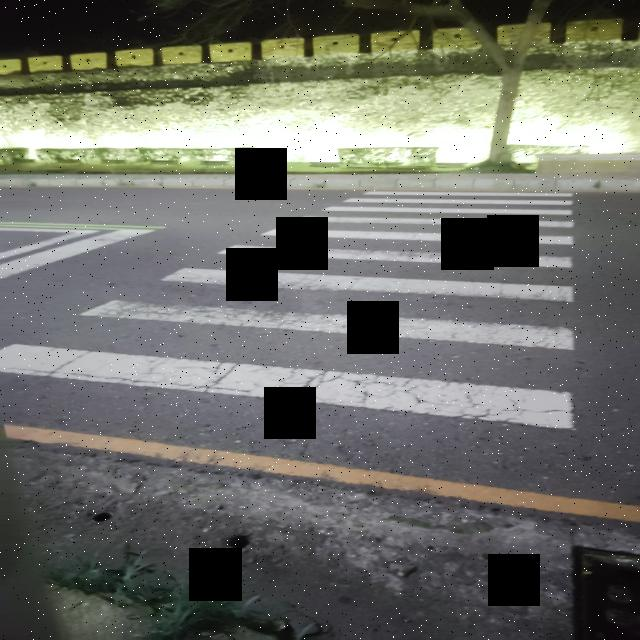zebra_crossing: (5, 183, 575, 435)
